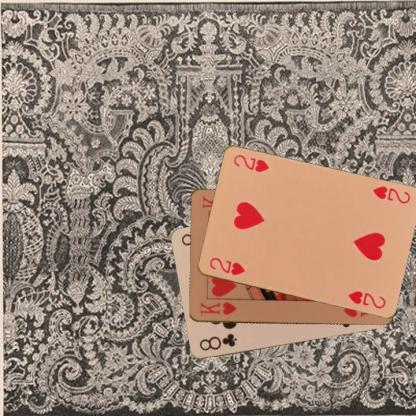2h: (370, 183, 411, 205), (206, 255, 246, 277)
8c: (196, 331, 238, 353)
Kh: (198, 299, 238, 317)
